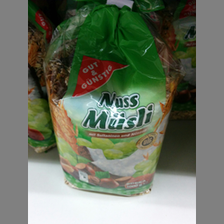cereal: (40, 6, 178, 196)
